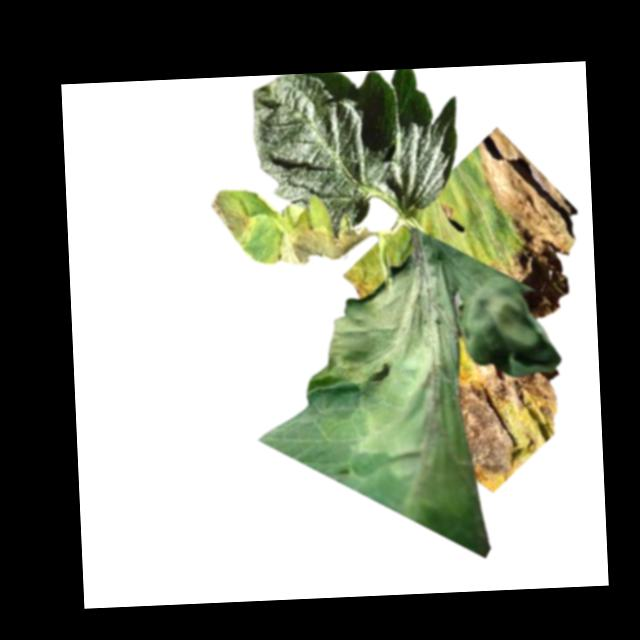healthy: (324, 231, 470, 510), (251, 67, 462, 230), (473, 122, 587, 321), (462, 360, 567, 493), (458, 247, 564, 378), (276, 212, 372, 266), (208, 186, 255, 246), (341, 261, 381, 302)
